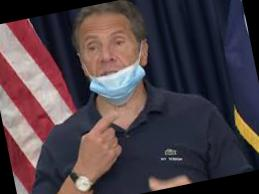mask_weared_incorrect: (79, 24, 145, 98)
